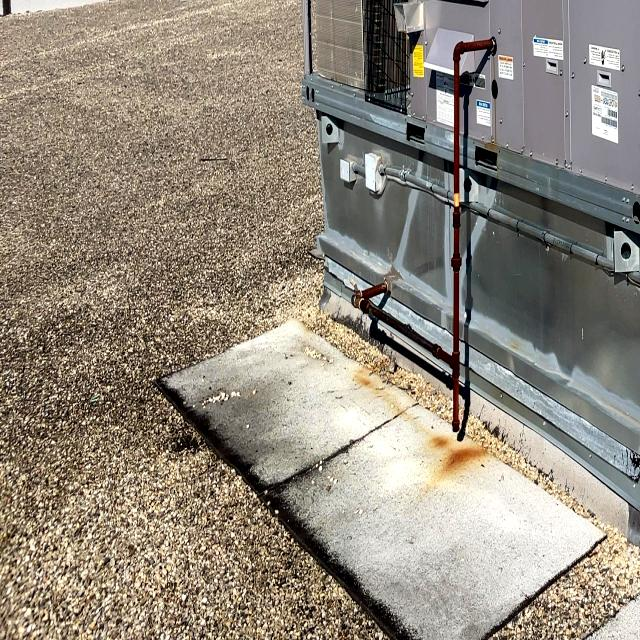GRAVITY-VENT: (212, 0, 259, 10)
RTU: (293, 0, 640, 443)
